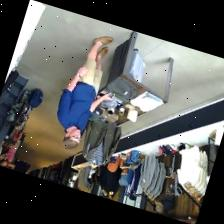person: (57, 36, 113, 148), (8, 132, 27, 169), (0, 136, 21, 167)
